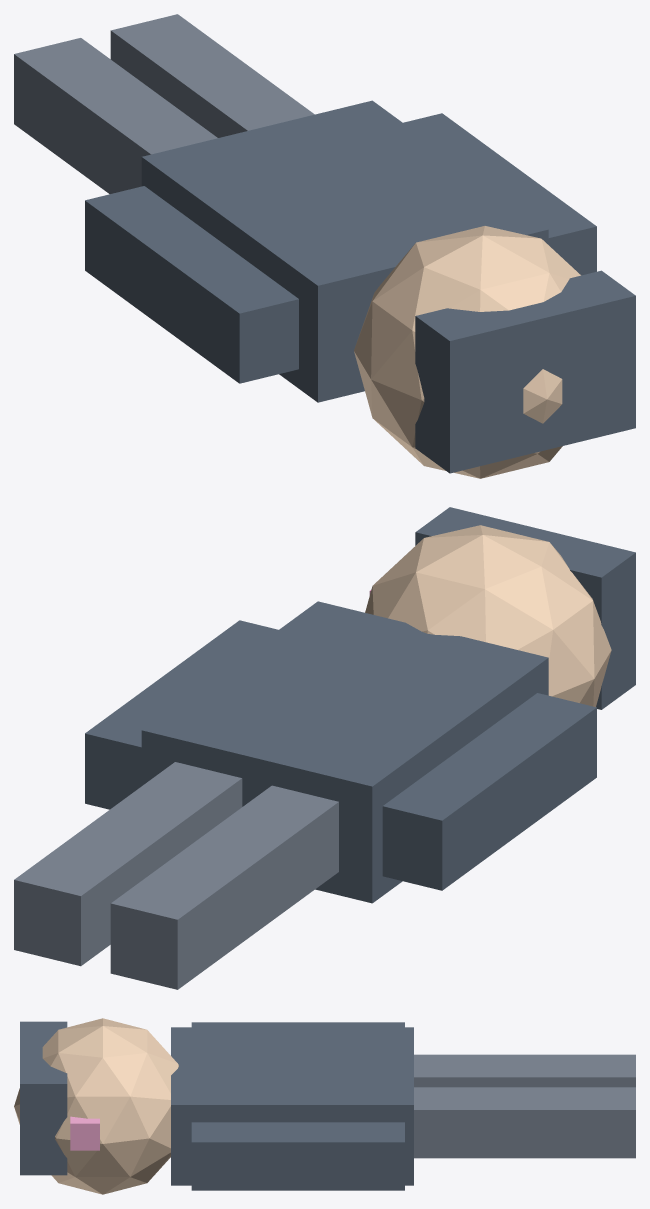
Rendered from ceo_variant_1.glb.
3 renders of one model, top to bottom at view 1: azimuth 30°, elevation 25°; view 2: azimuth 150°, elevation 25°; view 3: azimuth 270°, elevation 25°, orthographic. The views are drawn at different scales.
Parts seen in each view (by area): view 1: torso_2, hair_6, arm_l_3, head_5, leg_l_0, leg_r_1, arm_r_4; view 2: torso_2, leg_l_0, arm_l_3, head_5, leg_r_1, arm_r_4, hair_6; view 3: torso_2, head_5, leg_r_1, arm_r_4, leg_l_0, hair_6, arm_l_3, earring_or_badge_9.
Boxes of the visible parts, box(x1,y1,x2,y2) form: torso_2: box(141, 100, 548, 402); hair_6: box(415, 270, 635, 473); arm_l_3: box(85, 186, 298, 383); head_5: box(354, 226, 580, 478); leg_l_0: box(14, 38, 217, 193); leg_r_1: box(110, 14, 314, 137); arm_r_4: box(403, 113, 596, 275); torso_2: box(141, 601, 548, 903); leg_l_0: box(110, 785, 338, 989); arm_l_3: box(382, 693, 596, 890); head_5: box(365, 525, 611, 706); leg_r_1: box(14, 762, 242, 966); arm_r_4: box(85, 620, 278, 809); hair_6: box(415, 507, 635, 709); torso_2: box(171, 1027, 413, 1185); head_5: box(14, 1018, 178, 1194); leg_r_1: box(414, 1087, 635, 1158); arm_r_4: box(191, 1122, 404, 1190); leg_l_0: box(414, 1054, 635, 1087); hair_6: box(20, 1021, 67, 1175); arm_l_3: box(191, 1022, 404, 1027); earring_or_badge_9: box(70, 1116, 99, 1150).
Bounding box in the file's own units: 0.96 × 0.6 × 2.1.
